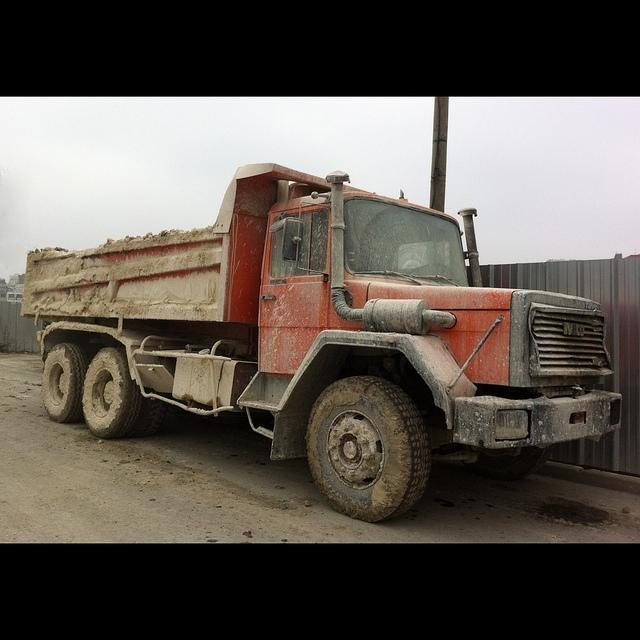truck: (18, 164, 626, 522)
